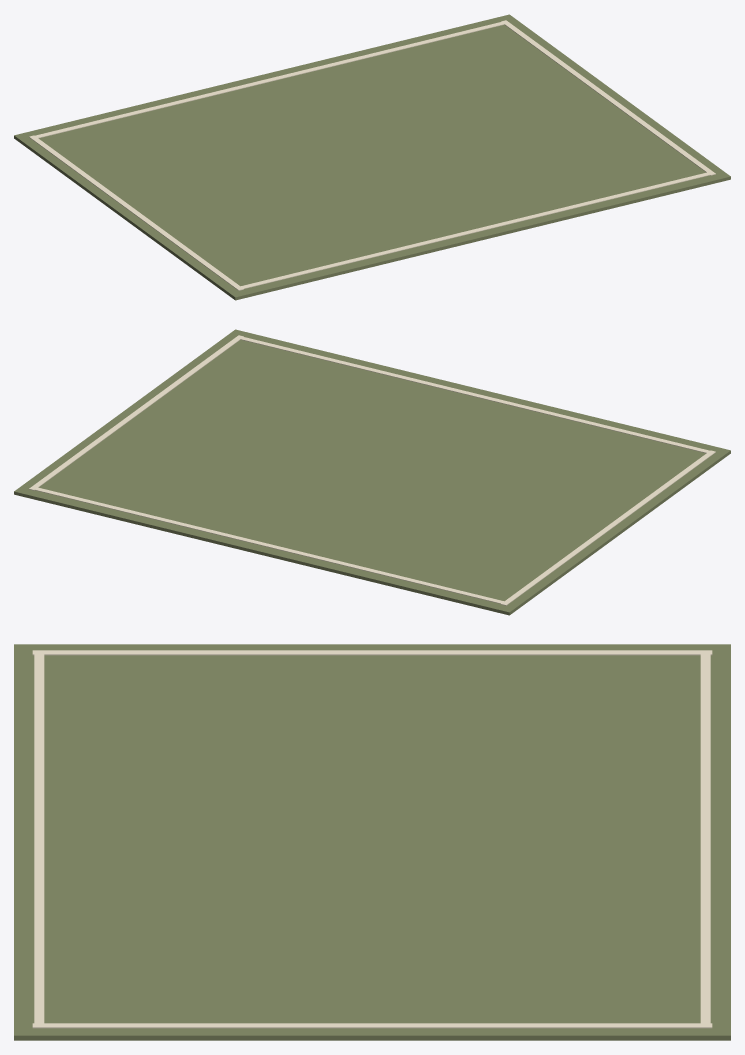
Rendered from study_ref_rug.glb.
3 renders of one model, top to bottom at view 1: azimuth 30°, elevation 25°; view 2: azimuth 150°, elevation 25°; view 3: azimuth 270°, elevation 25°, orthographic. The views are drawn at different scales.
Bounding box in the file's own units: 4.2 × 0.031 × 3.25.
